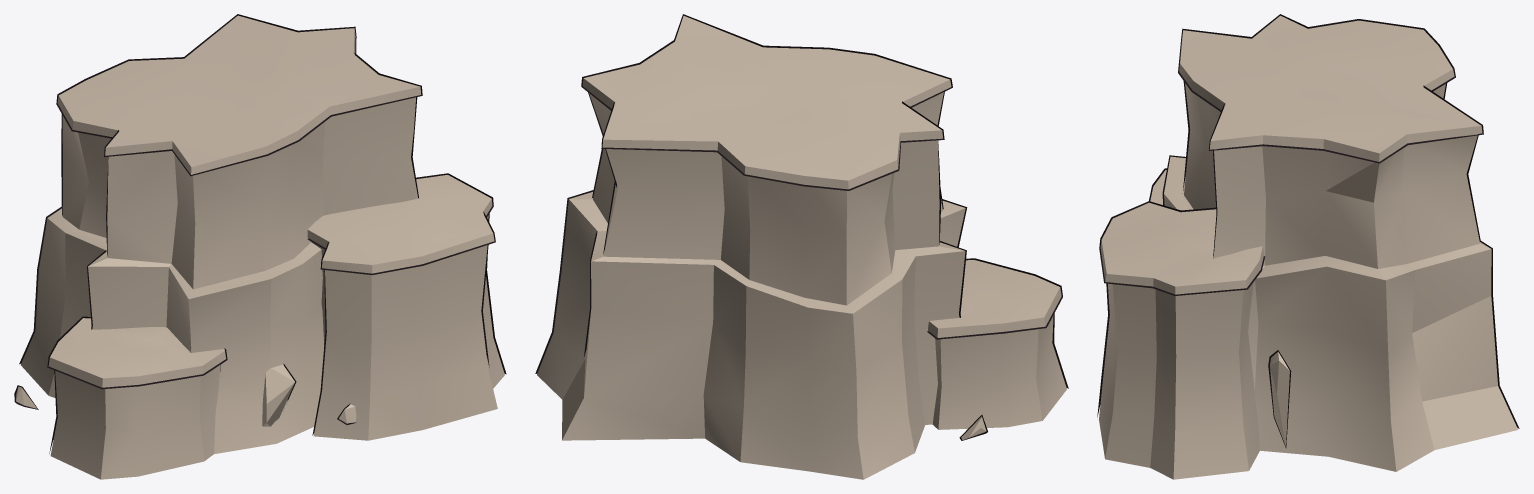
The model's file is SM_Mtn_Plateau_01.fbx.
3 views of the same model, side by side, from view 1: azimuth 30°, elevation 25°; view 2: azimuth 150°, elevation 25°; view 3: azimuth 270°, elevation 25° (orthographic). The views are drawn at different scales.
Visible parts, largest first — view 1: SM_Mtn_Plateau_01; view 2: SM_Mtn_Plateau_01; view 3: SM_Mtn_Plateau_01.
Part boxes in pixels (left/top/right/bottom): SM_Mtn_Plateau_01: left=14, top=14, right=506, bottom=479; SM_Mtn_Plateau_01: left=535, top=14, right=1068, bottom=479; SM_Mtn_Plateau_01: left=1097, top=14, right=1519, bottom=479.
Size of the model in its own units: 63.06 by 41.15 by 51.6.
